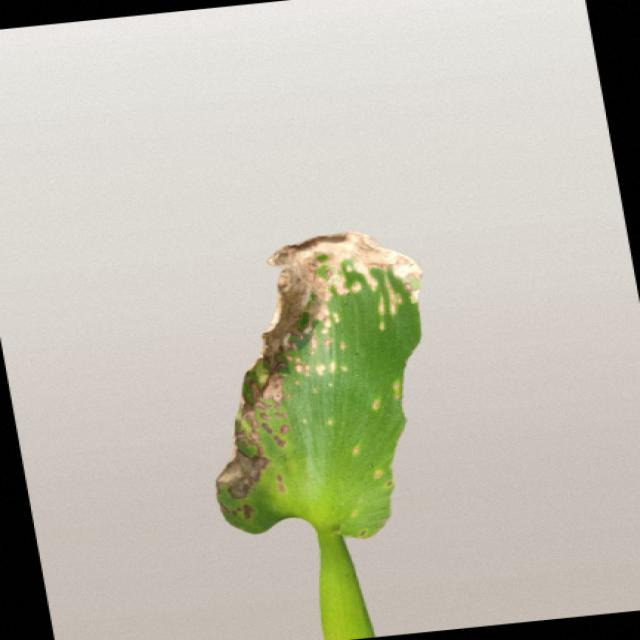daun berpenyakit bercak: (217, 233, 421, 640)
